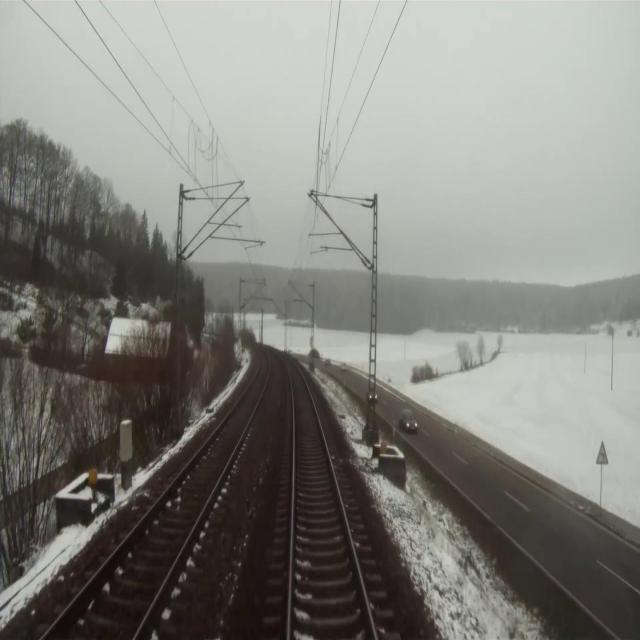rail-track: (46, 348, 268, 639), (285, 359, 373, 639)
